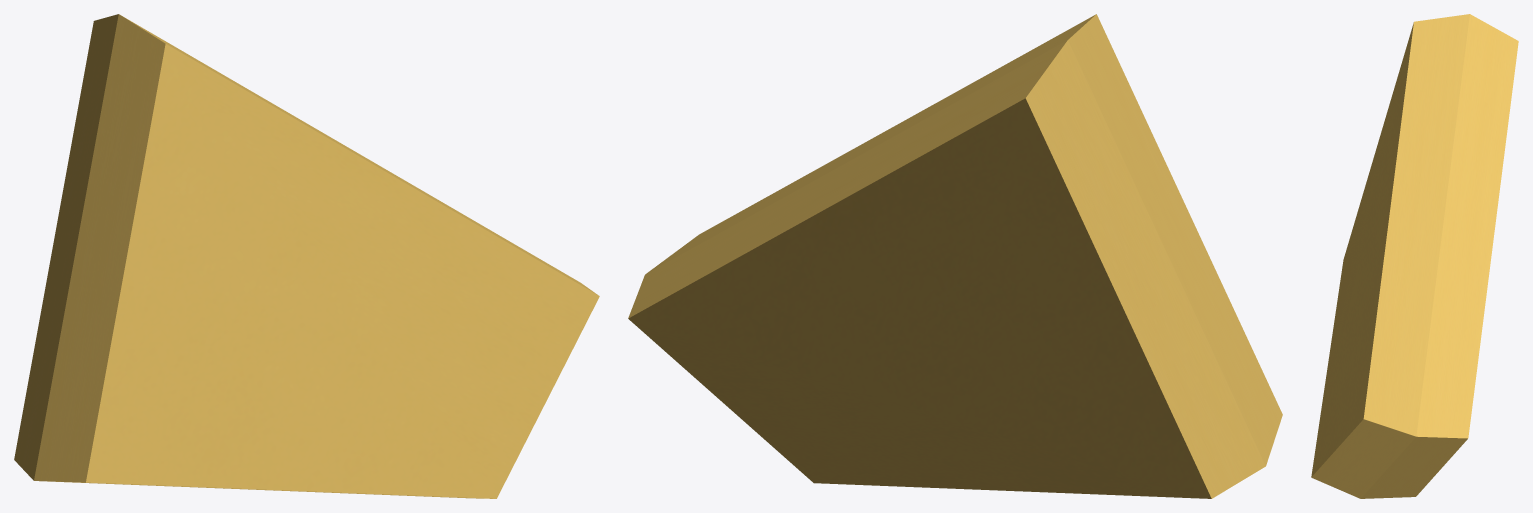
Rendered from FXM_S29_CoreShard.fbx.
3 views of the same model, side by side, from view 1: azimuth 30°, elevation 25°; view 2: azimuth 150°, elevation 25°; view 3: azimuth 270°, elevation 25° (orthographic). The views are drawn at different scales.
Visible parts, largest first — view 1: FXM_S29_CoreShard_LOD0; view 2: FXM_S29_CoreShard_LOD0; view 3: FXM_S29_CoreShard_LOD0.
Boxes of the visible parts, x1,y1,x2,y2 form: FXM_S29_CoreShard_LOD0: (14,14,599,498); FXM_S29_CoreShard_LOD0: (628,14,1282,498); FXM_S29_CoreShard_LOD0: (1311,14,1518,498).
Bounding box in the file's own units: 0.23 × 0.1968 × 0.0968.
